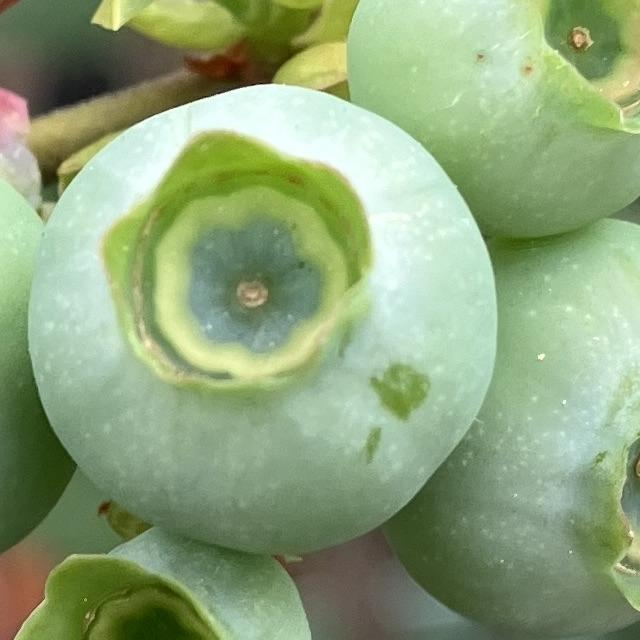Blueberries: (22, 77, 501, 556), (0, 523, 352, 640)
